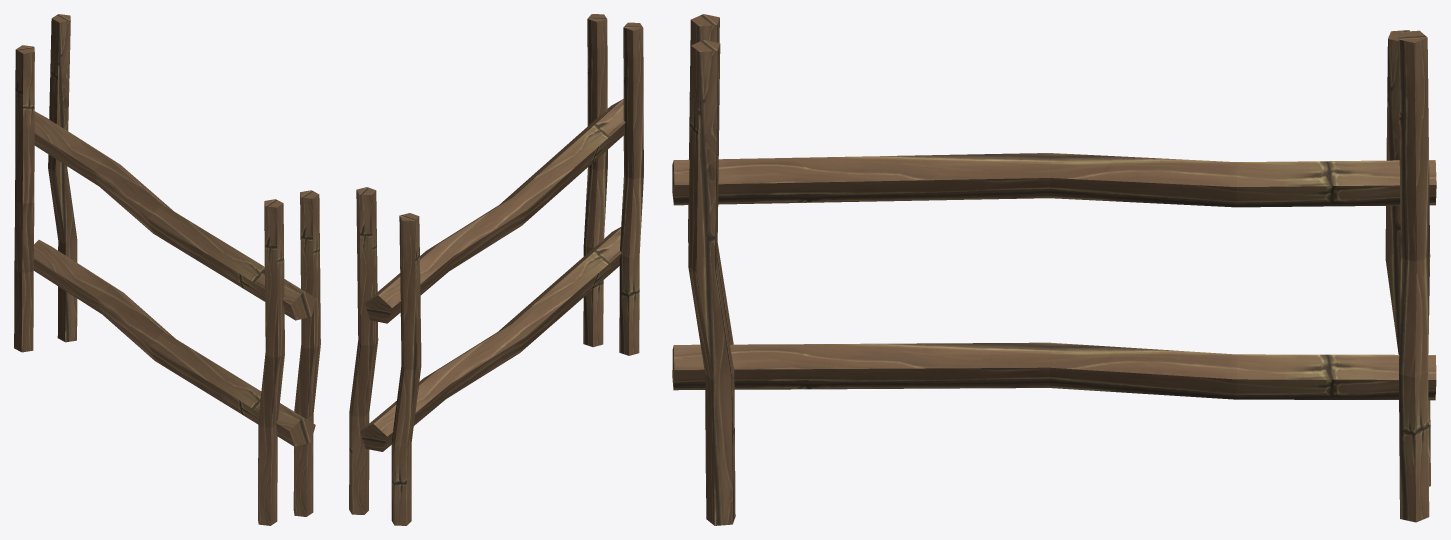
File: fence01.gltf
3 views of the same model, side by side, from view 1: azimuth 30°, elevation 25°; view 2: azimuth 150°, elevation 25°; view 3: azimuth 270°, elevation 25° (orthographic). The views are drawn at different scales.
Parts seen in each view (by area): view 1: Wood_Wood_06_0; view 2: Wood_Wood_06_0; view 3: Wood_Wood_06_0.
Boxes of the visible parts, <box> form: Wood_Wood_06_0: <box>14,14,320,525</box>; Wood_Wood_06_0: <box>349,14,643,525</box>; Wood_Wood_06_0: <box>672,14,1436,525</box>.
Size of the model in its own units: 0.8997 by 4.3 by 6.21.
1 material, 1 textured.
